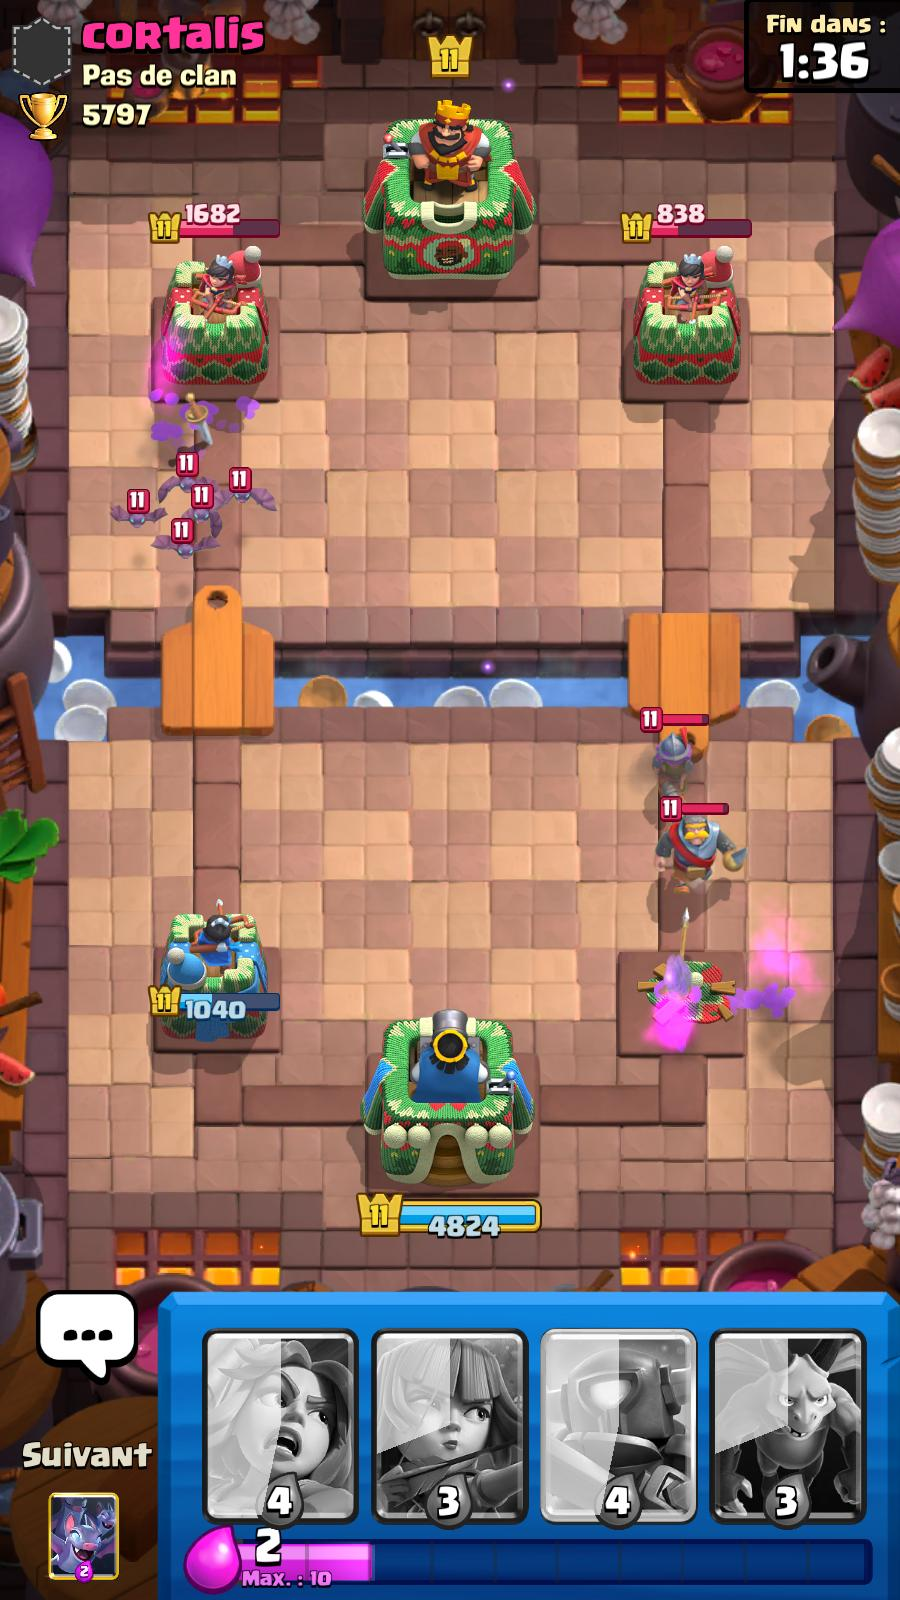bat: (212, 466, 284, 513), (156, 458, 214, 503), (173, 496, 240, 532), (156, 532, 223, 567), (109, 488, 166, 526)
chevalier: (652, 809, 747, 905)
mousquetaire: (634, 703, 707, 816)
